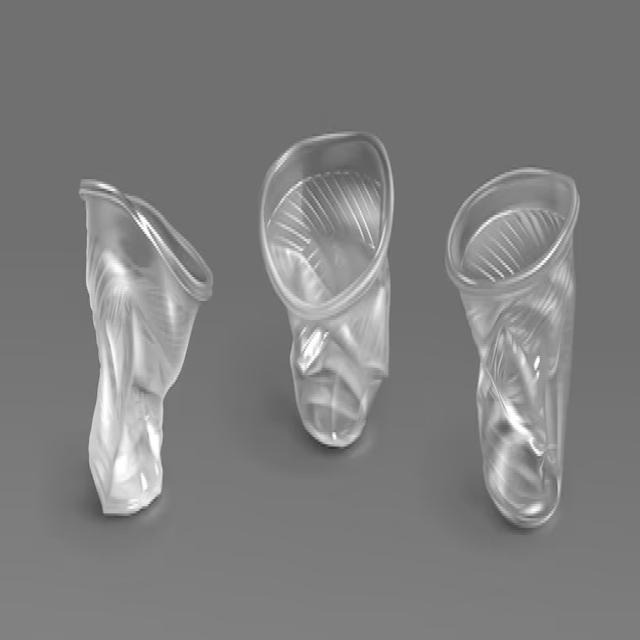Dry: (444, 168, 579, 531), (78, 174, 212, 517), (260, 131, 394, 448)
